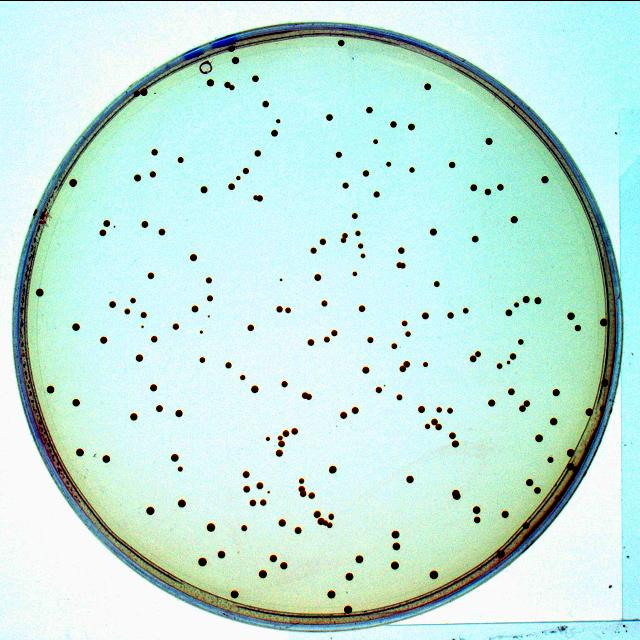colony: (452, 489, 460, 499), (130, 412, 138, 420), (231, 590, 239, 598), (280, 561, 288, 569), (346, 572, 354, 580), (391, 561, 399, 569), (430, 570, 438, 578), (391, 530, 399, 538), (72, 322, 80, 330), (302, 391, 311, 398), (396, 261, 405, 268), (36, 288, 44, 295), (76, 448, 84, 455), (146, 506, 154, 513), (218, 550, 225, 558), (259, 570, 266, 578), (356, 555, 364, 562), (392, 542, 400, 549), (256, 481, 264, 488), (251, 385, 259, 392), (340, 411, 348, 418), (406, 475, 414, 482), (472, 505, 480, 512), (344, 605, 352, 612), (541, 175, 549, 182), (568, 311, 575, 319), (600, 318, 608, 325), (140, 88, 148, 95), (179, 499, 186, 506), (208, 522, 215, 529), (199, 558, 206, 565), (328, 590, 335, 597), (329, 465, 336, 472), (449, 431, 456, 438), (522, 521, 529, 528), (422, 311, 429, 318), (172, 322, 179, 329), (201, 185, 208, 192), (342, 181, 349, 188), (511, 215, 518, 222), (535, 434, 542, 441), (72, 399, 80, 405), (102, 455, 110, 461), (171, 454, 179, 460), (242, 470, 250, 476), (150, 384, 158, 390), (501, 510, 509, 516), (522, 295, 530, 301), (100, 336, 108, 342), (190, 254, 198, 260), (141, 220, 149, 226), (254, 194, 262, 200), (552, 389, 560, 395), (550, 418, 558, 424), (48, 385, 54, 392), (270, 554, 276, 561), (279, 519, 286, 525), (241, 524, 248, 530), (309, 491, 315, 498), (300, 489, 306, 496), (281, 380, 288, 386), (352, 406, 359, 412), (176, 409, 182, 416), (452, 440, 459, 446), (431, 418, 438, 424), (362, 366, 369, 372), (331, 329, 338, 335), (448, 311, 454, 318), (510, 352, 516, 359), (151, 335, 158, 341), (148, 271, 154, 278), (134, 174, 141, 180), (229, 182, 235, 189), (271, 129, 278, 135), (262, 100, 269, 106), (252, 75, 259, 81), (232, 56, 239, 62), (409, 122, 415, 129), (425, 82, 431, 89), (449, 161, 455, 168), (472, 235, 479, 241), (534, 486, 541, 492), (601, 379, 608, 385), (586, 408, 592, 415), (568, 462, 574, 469), (191, 306, 199, 311), (295, 526, 301, 532), (250, 499, 256, 505), (260, 499, 266, 505), (244, 485, 250, 491), (314, 510, 320, 516), (318, 518, 324, 524), (299, 485, 305, 491), (276, 449, 282, 455), (279, 440, 285, 446), (225, 361, 231, 367), (156, 405, 162, 411), (474, 516, 480, 522), (376, 386, 382, 392), (419, 405, 425, 411), (489, 399, 495, 405), (509, 388, 515, 394), (526, 479, 532, 485), (498, 550, 504, 556), (308, 339, 314, 345), (248, 324, 254, 330), (276, 305, 282, 311), (285, 306, 291, 312), (359, 305, 365, 311), (404, 360, 410, 366), (400, 365, 406, 371), (470, 355, 476, 361), (475, 350, 481, 356), (506, 309, 512, 315), (315, 274, 321, 280), (136, 354, 142, 360), (110, 300, 116, 306), (100, 229, 106, 235), (104, 219, 110, 225), (159, 228, 165, 234), (150, 170, 156, 176), (208, 79, 214, 85), (326, 114, 332, 120), (366, 106, 372, 112), (310, 246, 316, 252), (320, 238, 326, 244), (352, 212, 358, 218), (374, 190, 380, 196), (390, 120, 396, 126), (430, 228, 436, 234), (486, 138, 492, 144), (470, 184, 476, 190), (485, 188, 491, 194), (434, 280, 440, 286), (535, 296, 541, 302), (70, 179, 76, 185), (575, 324, 581, 330), (568, 449, 574, 455), (329, 512, 334, 519), (282, 430, 289, 435), (291, 428, 298, 433), (436, 422, 441, 429), (520, 404, 525, 411), (321, 300, 328, 305), (151, 149, 158, 154), (362, 170, 369, 175), (396, 394, 402, 399), (425, 422, 430, 428), (524, 400, 530, 405), (324, 336, 330, 341), (368, 336, 374, 341), (391, 342, 396, 348), (402, 320, 408, 325), (518, 339, 524, 344), (206, 276, 211, 282), (125, 308, 130, 314), (178, 156, 184, 161), (256, 149, 261, 155), (229, 45, 235, 50), (339, 39, 344, 45), (399, 246, 404, 252), (498, 184, 504, 189), (548, 456, 554, 461), (134, 90, 140, 95), (240, 374, 245, 379), (436, 406, 441, 411), (405, 330, 410, 335), (514, 301, 519, 306), (200, 356, 205, 361), (141, 311, 146, 316), (225, 81, 230, 86), (230, 84, 235, 89), (336, 151, 341, 156), (341, 236, 346, 241), (355, 230, 360, 235), (410, 166, 415, 171), (600, 405, 605, 410), (328, 521, 332, 527), (498, 362, 502, 368), (130, 298, 136, 302), (361, 252, 365, 258), (324, 520, 328, 525), (299, 478, 304, 482), (424, 361, 428, 366), (464, 308, 469, 312), (208, 295, 212, 300), (244, 168, 249, 172), (343, 232, 348, 236), (359, 242, 362, 248), (178, 466, 182, 470), (278, 435, 282, 439), (448, 408, 452, 412), (506, 360, 510, 364), (352, 271, 356, 275), (236, 175, 240, 179), (387, 161, 391, 165), (266, 436, 270, 439), (276, 119, 280, 122), (374, 139, 378, 142)
